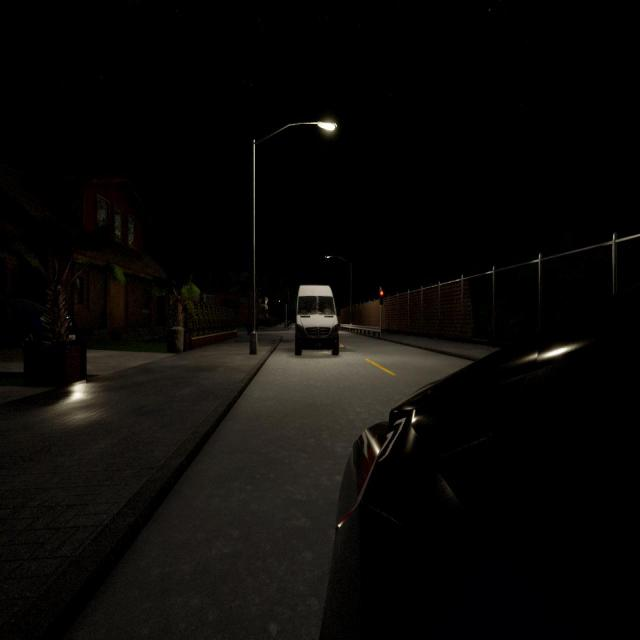Vehicle: (320, 285, 640, 640), (294, 285, 339, 357)
traffic_light: (379, 290, 384, 304)
